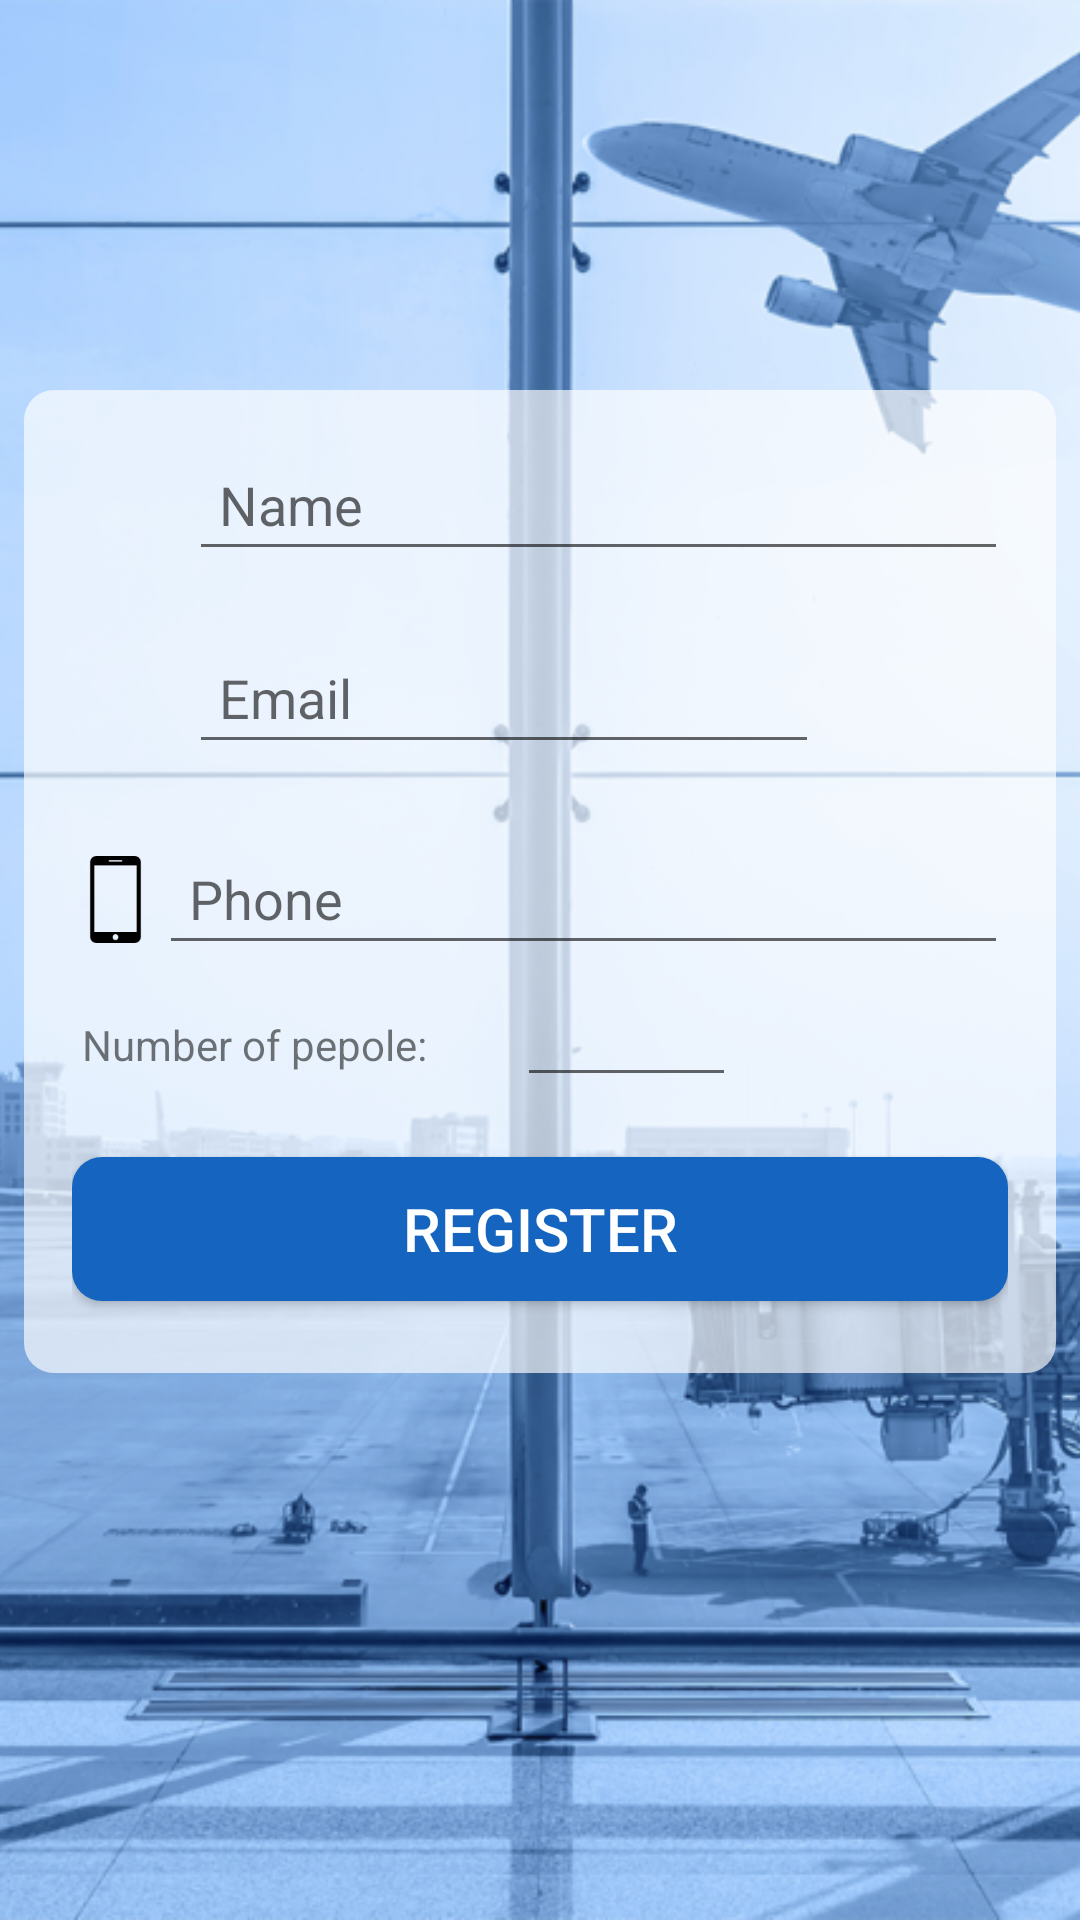

Point at icon controls on the screen. Image size 1080 x 1920, points as [x,y].
mobile: [115,899]
